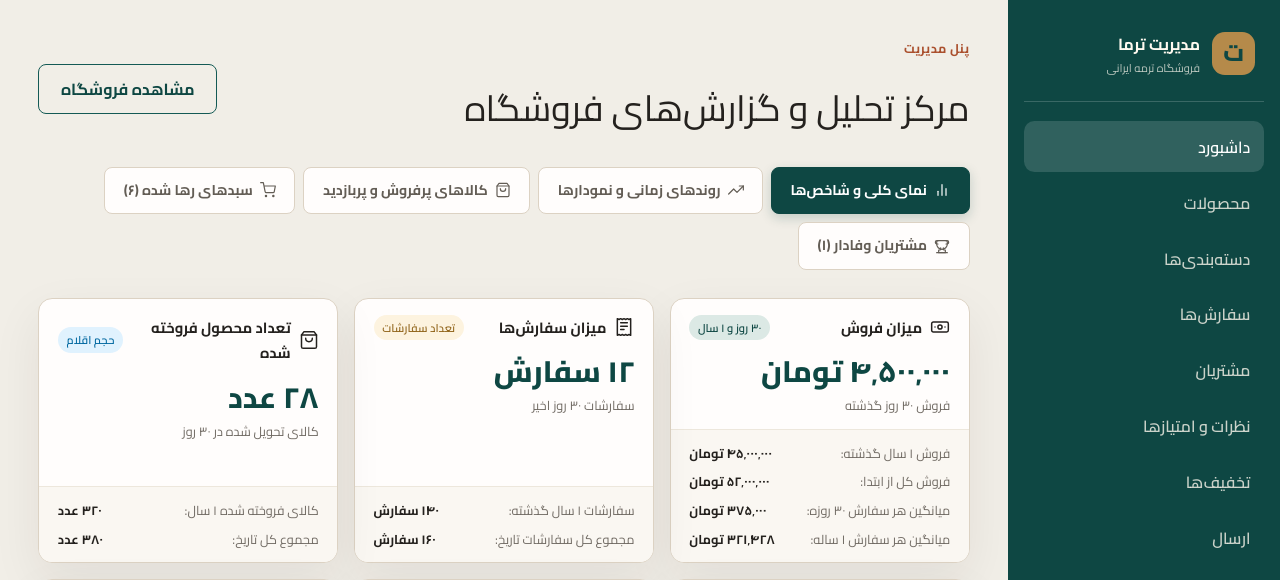
Test case: Admin Analytics & Reports › AdminReportsPage allows navigating across tabs and displays reports
Expected: the heading "مرکز تحلیل و گزارش‌های فروشگاه" is shown, top-left (464, 76), bottom-right (970, 140)
Expected: the text "فروش ۳۰ روز گذشته" is shown, top-left (845, 393), bottom-right (950, 417)
Note: Switch to Abandoned Carts tab
Click the tab "سبدهای رها شده (۶)" at (200, 190), box top-left (104, 167), bottom-right (295, 214)
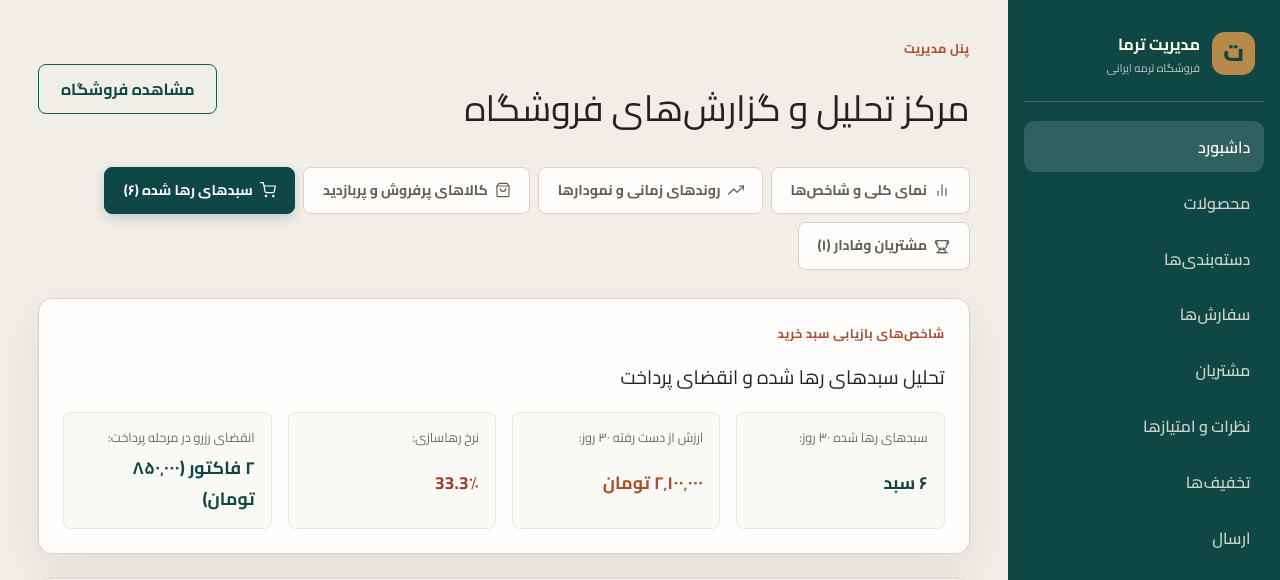
Now the heading "تحلیل سبدهای رها شده و انقضای پرداخت" is shown, box top-left (621, 361), bottom-right (945, 394)
Note: Switch to Loyal Customers tab
Click the tab "مشتریان وفادار (۱)" at (884, 246), box top-left (798, 222), bottom-right (970, 270)
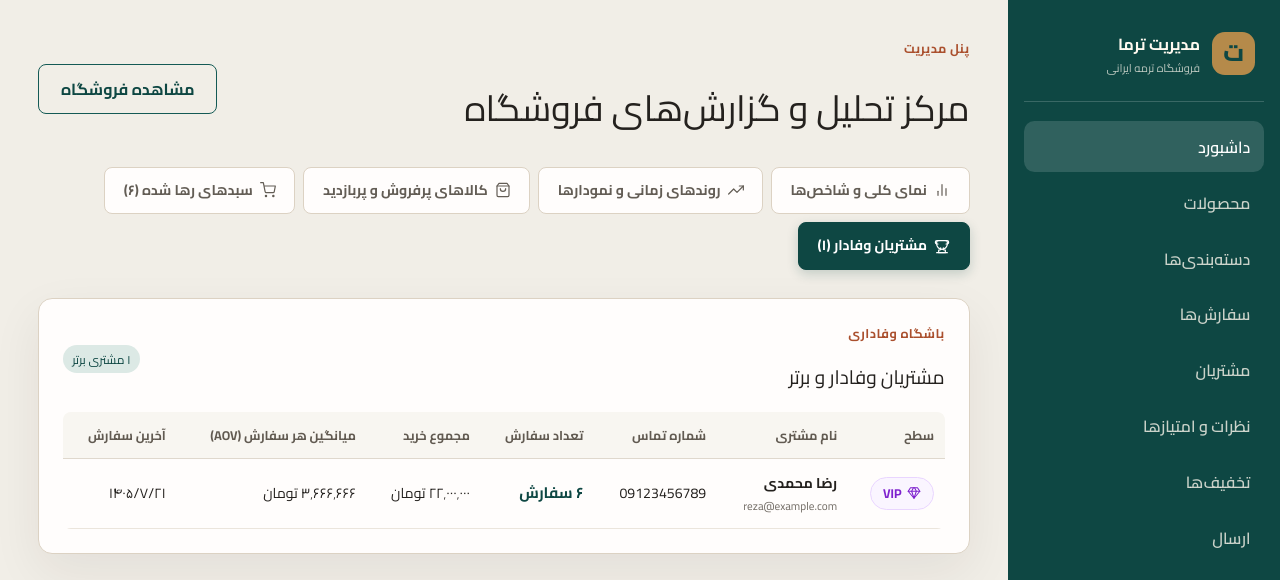
Now the heading "مشتریان وفادار و برتر" is shown, box top-left (789, 361), bottom-right (945, 394)
Now the text "رضا محمدی" is shown, box top-left (764, 470), bottom-right (837, 496)
